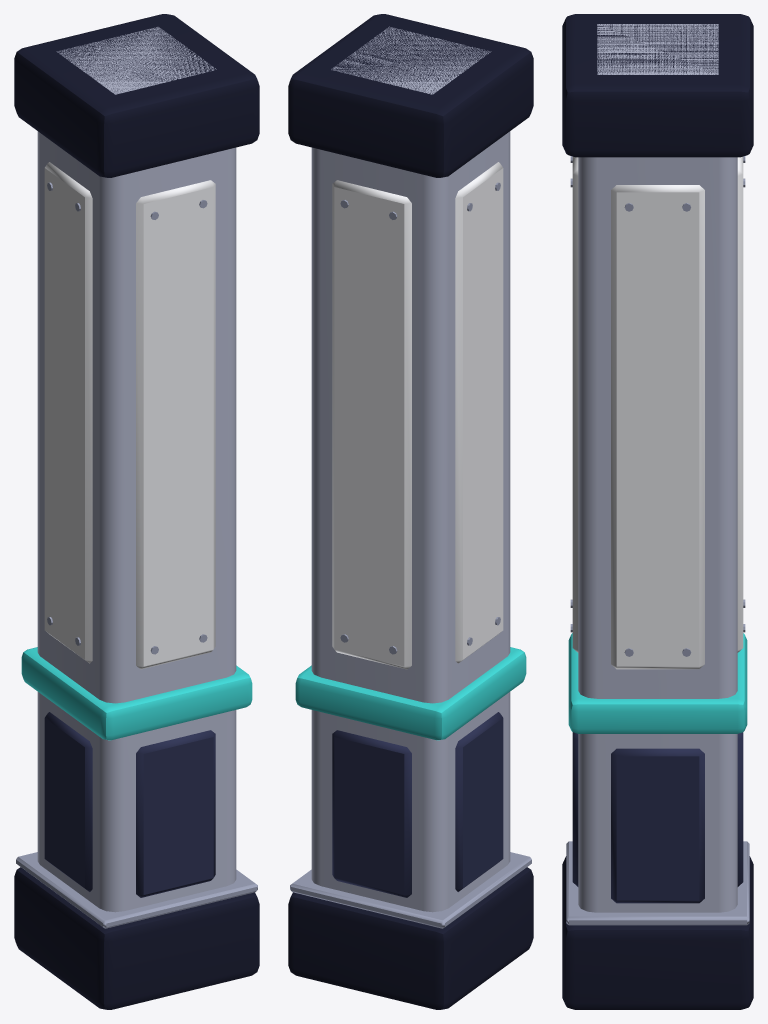
The model's file is pillar.glb.
3 views of the same model, side by side, from view 1: azimuth 30°, elevation 25°; view 2: azimuth 150°, elevation 25°; view 3: azimuth 270°, elevation 25° (orthographic). The views are drawn at different scales.
Parts seen in each view (by area): view 1: Body; view 2: Body; view 3: Body.
Part boxes in pixels (bbox=[...]): Body: bbox=[14, 14, 259, 1009]; Body: bbox=[288, 14, 533, 1009]; Body: bbox=[562, 14, 753, 1009].
Size of the model in its own units: 0.6 by 3.2 by 0.6.
